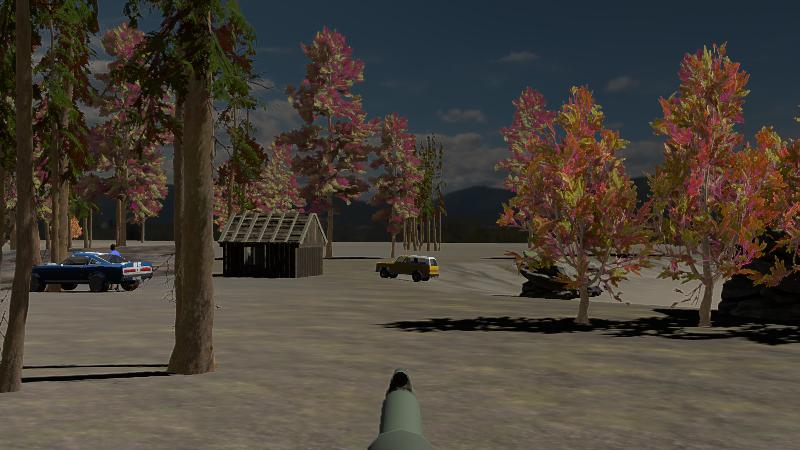House: (217, 205, 327, 278)
Human: (107, 243, 119, 260)
car: (29, 250, 156, 294), (374, 253, 440, 282)
